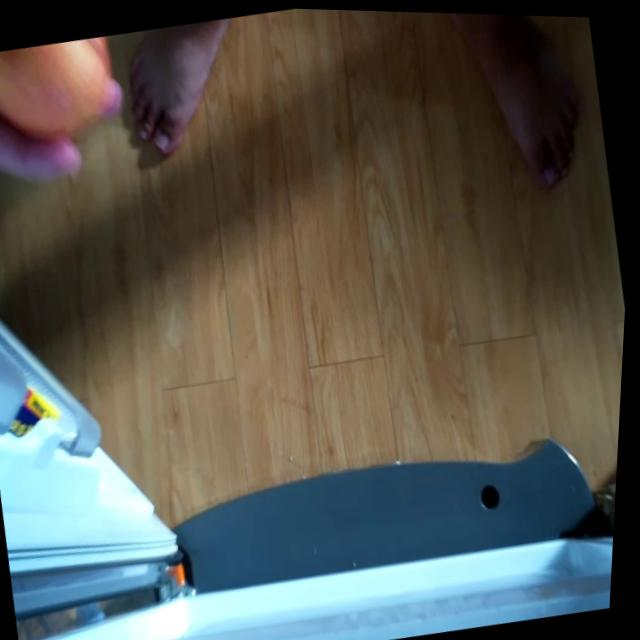apple: (0, 32, 123, 153)
